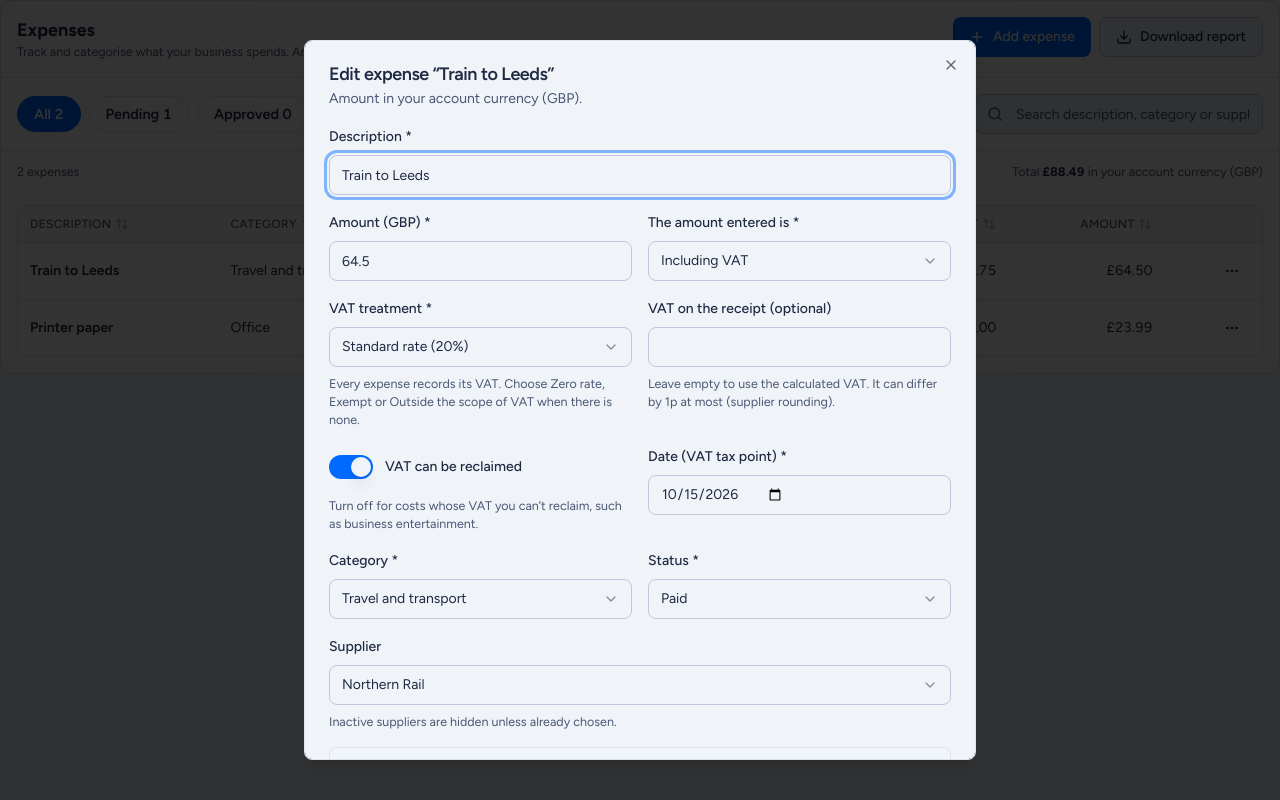
Test: ExpensesTab › a failed save shows the error in the dialog and leaves the row as it was
Earlier steps of the test are not shown.
Replace the text in the number field labelled "Amount (GBP) *" with "70". click: (480, 261)
box: [329,241,632,281]
(page scrolled)
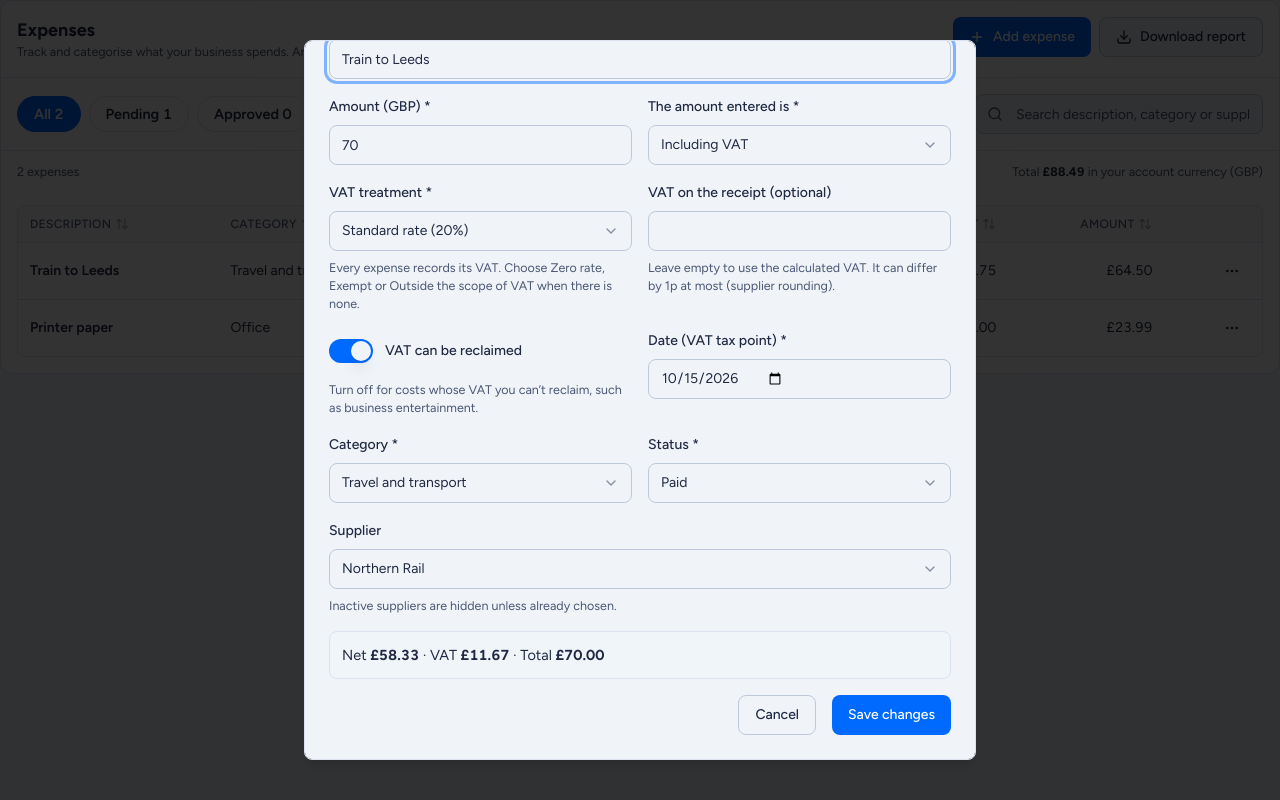
Click the button "Save changes". click: click(892, 715)
box: [832,695,951,735]
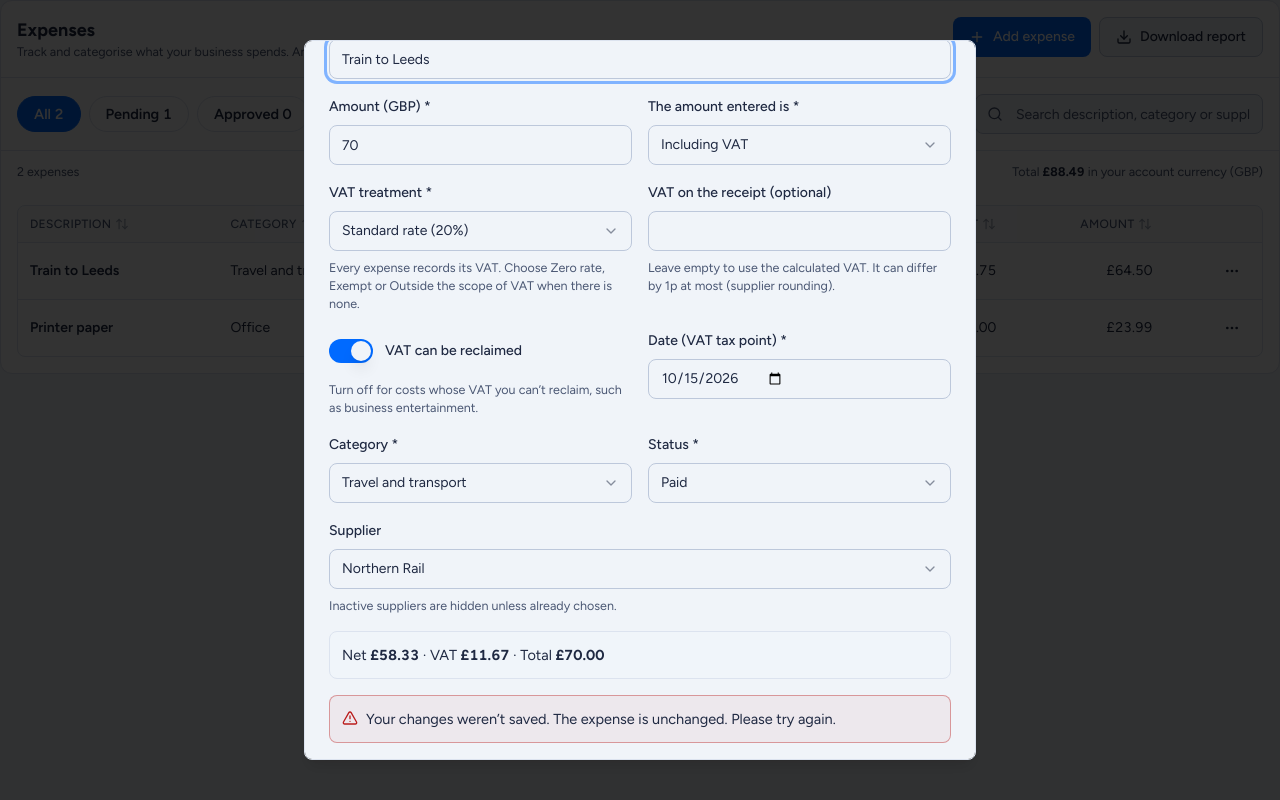
expect the dialog is shown: met, box [304,40,976,760]
expect the message shows "Your changes weren’t saved. The expense is unchanged.": met, box [366,710,836,728]
